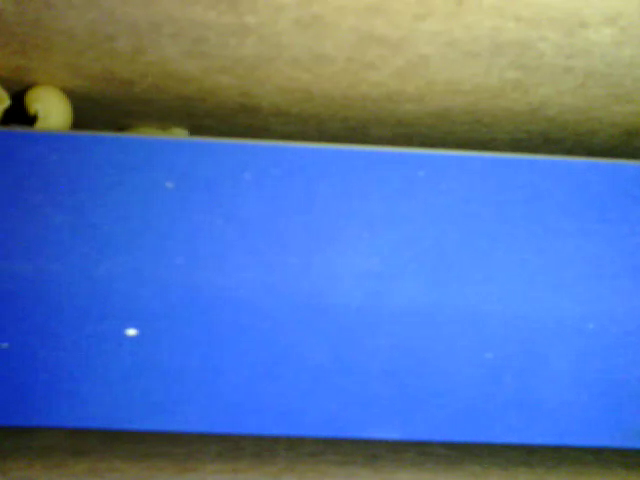shell: (24, 87, 74, 133)
